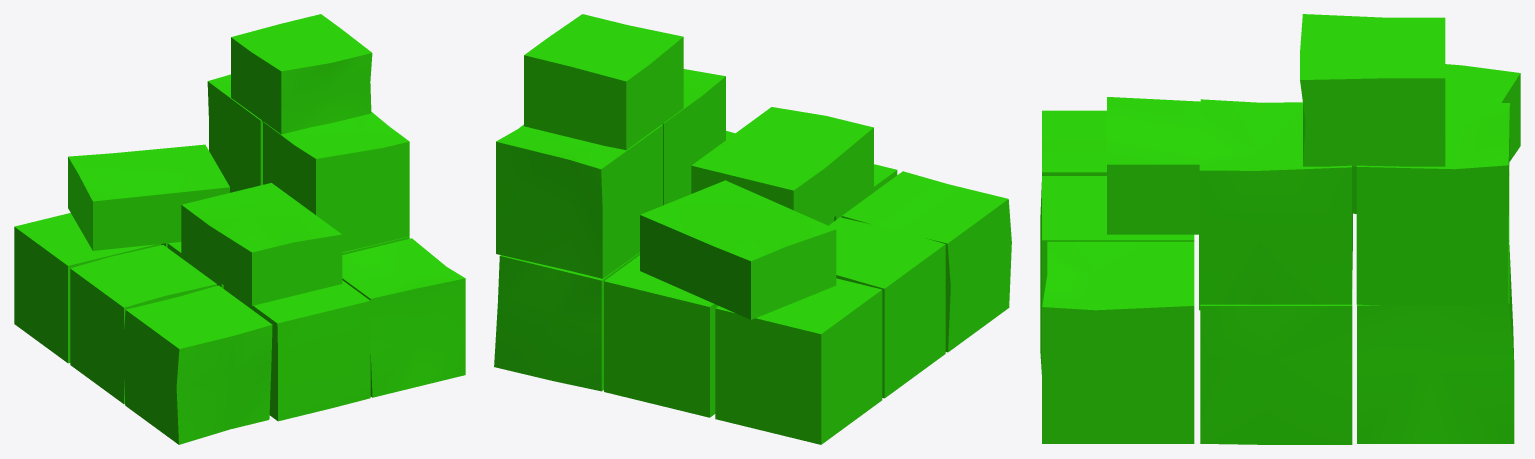
The model's file is Cardboard_Pile_03.fbx.
3 renders of one model, left to right at view 1: azimuth 30°, elevation 25°; view 2: azimuth 150°, elevation 25°; view 3: azimuth 270°, elevation 25°, orthographic. The views are drawn at different scales.
Visible parts, largest first — view 1: Cardboard_Pile_03; view 2: Cardboard_Pile_03; view 3: Cardboard_Pile_03.
Boxes of the visible parts, x1,y1,x2,y2 form: Cardboard_Pile_03: (14,14,465,444); Cardboard_Pile_03: (494,14,1011,444); Cardboard_Pile_03: (1040,14,1520,444).
Size of the model in its own units: 120 by 102 by 121.
